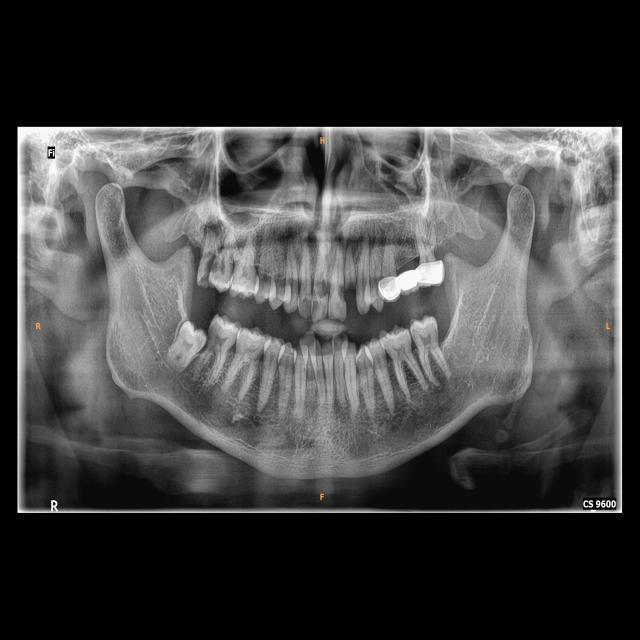dentin-curugu: (204, 326, 226, 354), (203, 250, 224, 278), (314, 276, 331, 302), (334, 281, 346, 307)
kaplama: (416, 262, 446, 288), (379, 274, 401, 300)
kirik: (345, 275, 358, 294)
kopru: (395, 263, 426, 293)
